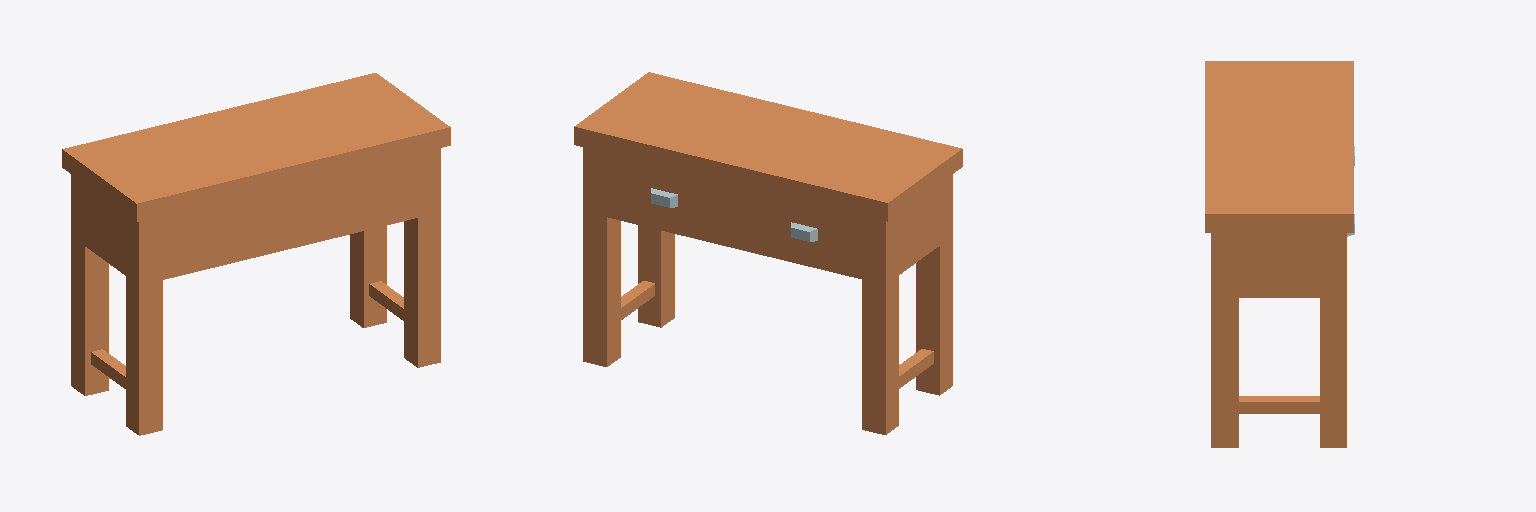
File: sideTableDrawers.obj
3 renders of one model, left to right at view 1: azimuth 30°, elevation 25°; view 2: azimuth 150°, elevation 25°; view 3: azimuth 270°, elevation 25°, orthographic.
Visible parts, largest first — view 1: sideTableDrawers; view 2: sideTableDrawers, drawerRight, drawerLeft; view 3: sideTableDrawers.
Boxes of the visible parts, <box> form: sideTableDrawers: <box>62,73,450,435</box>; sideTableDrawers: <box>574,72,962,434</box>; drawerRight: <box>746,202,861,260</box>; drawerLeft: <box>607,168,721,226</box>; sideTableDrawers: <box>1205,61,1353,447</box>.
Size of the model in its own units: 0.5345 by 0.3844 by 0.2223.